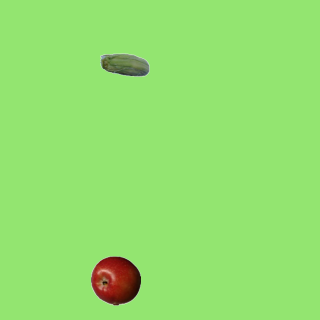Apple Braeburn: (90, 255, 140, 305)
Corn Husk: (99, 41, 149, 91)
